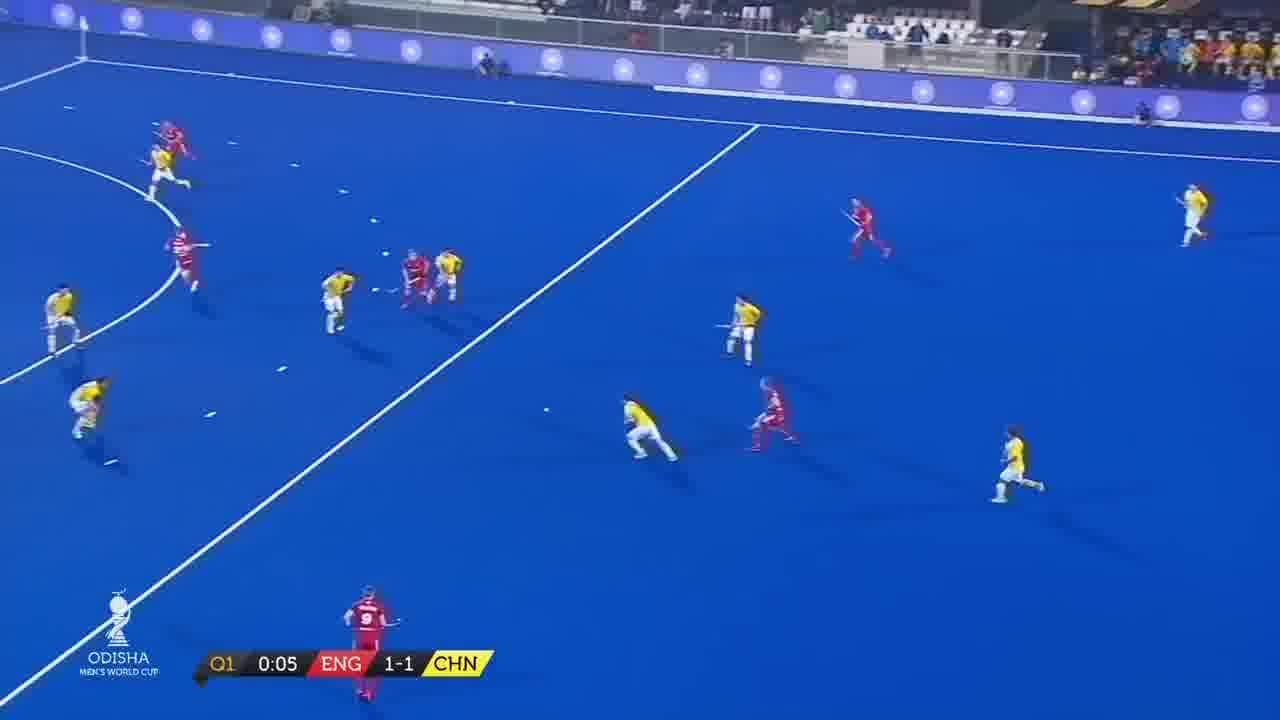ball: (542, 403, 558, 416)
